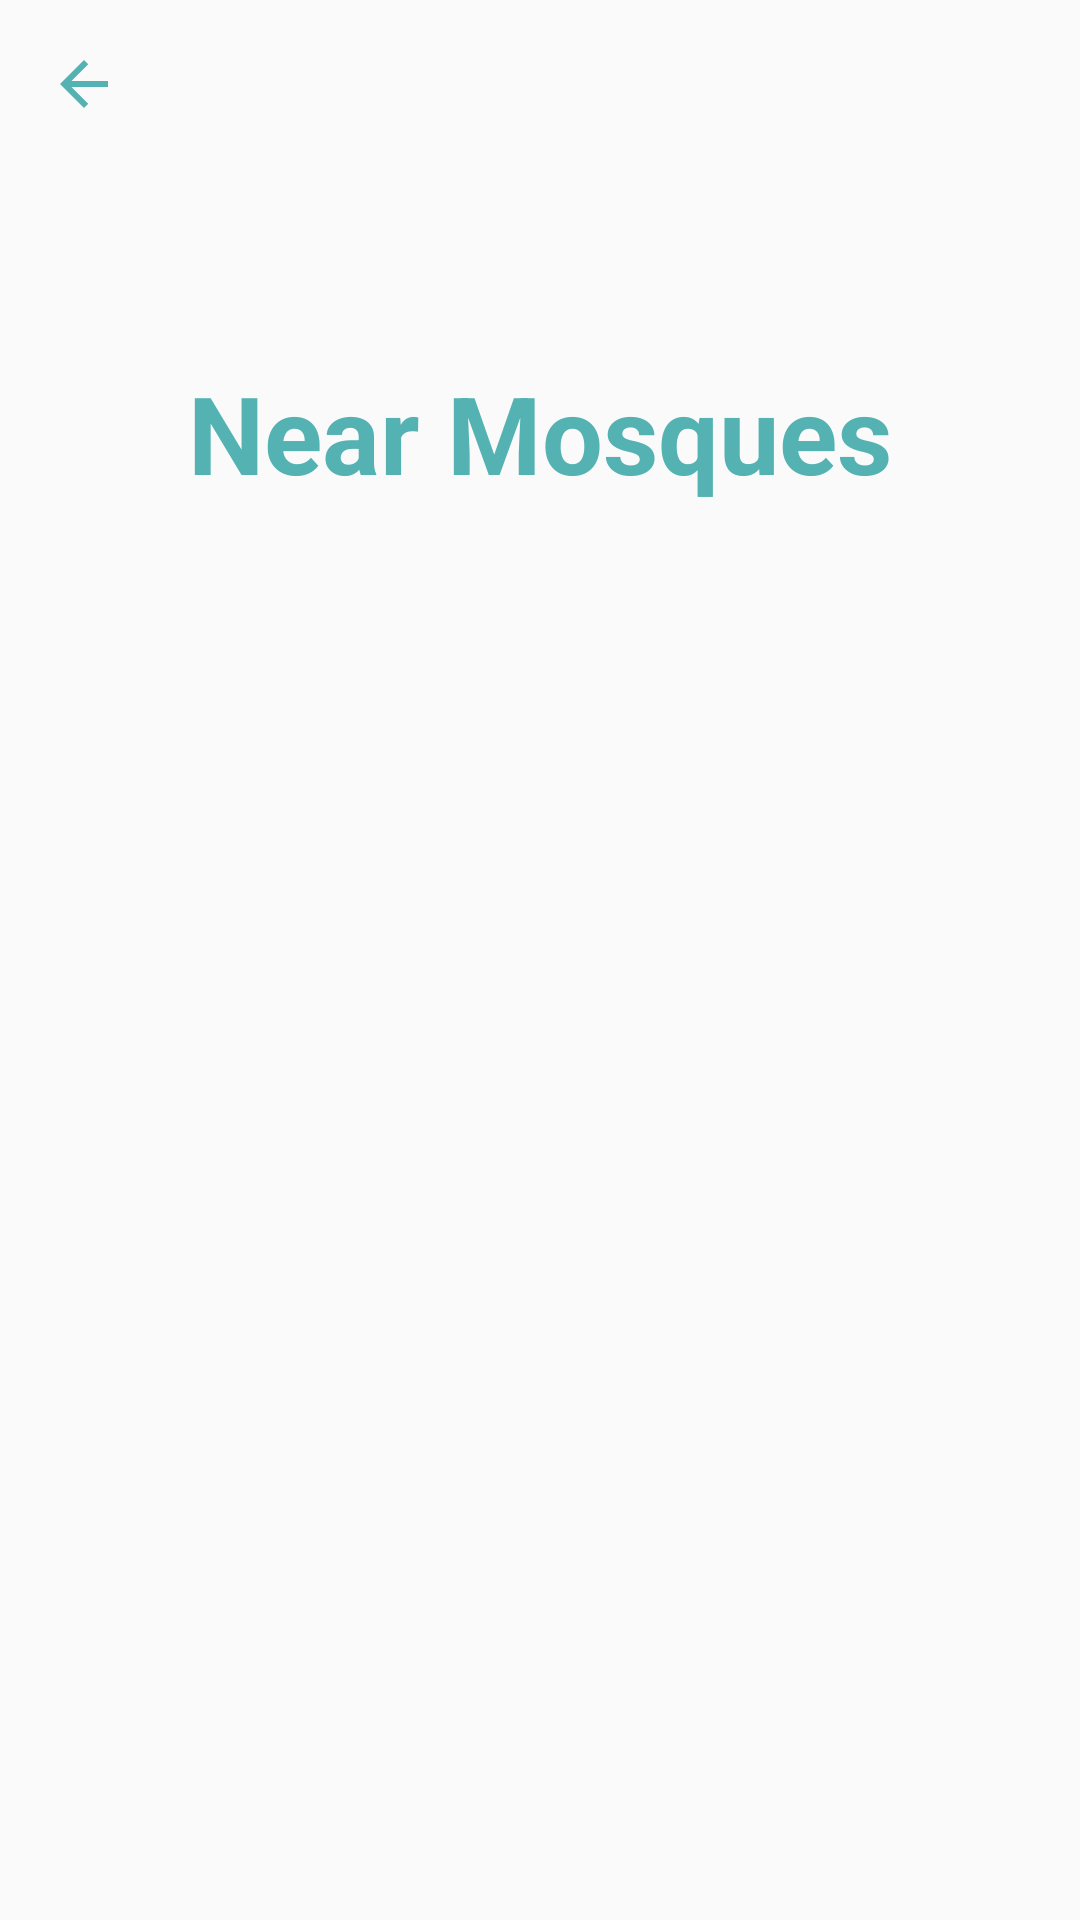

Named icons in this screenshot (1080x1920) and their bounding boxes, (x1, y1, x2, y2):
back: (60, 60, 108, 108)
